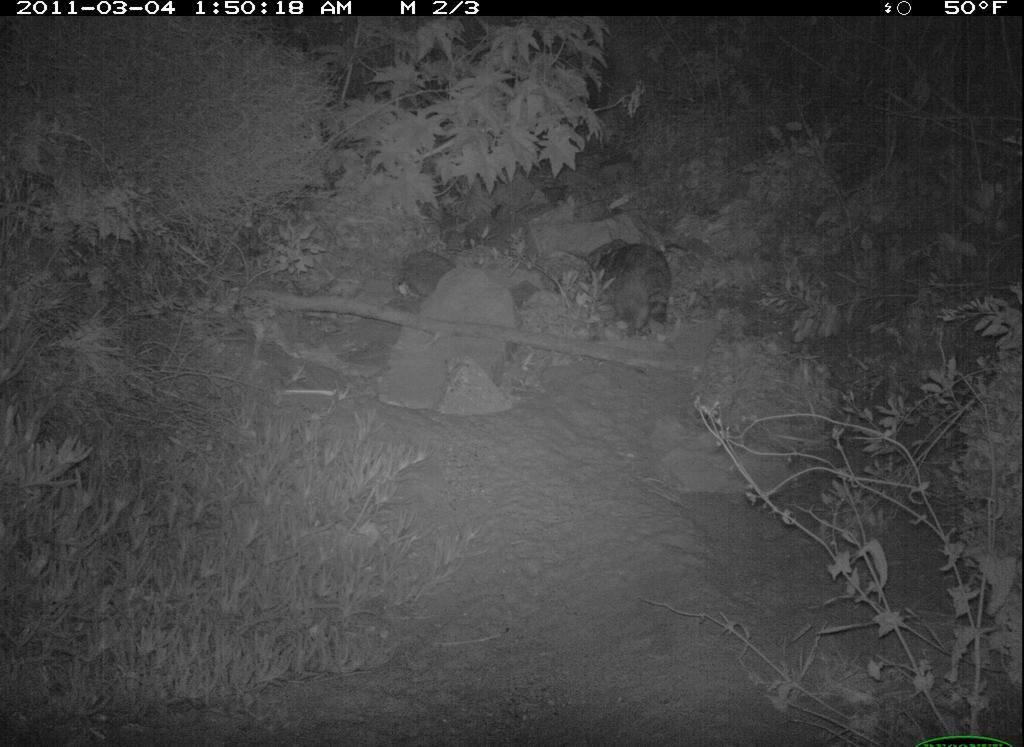raccoon: (574, 231, 690, 349)
